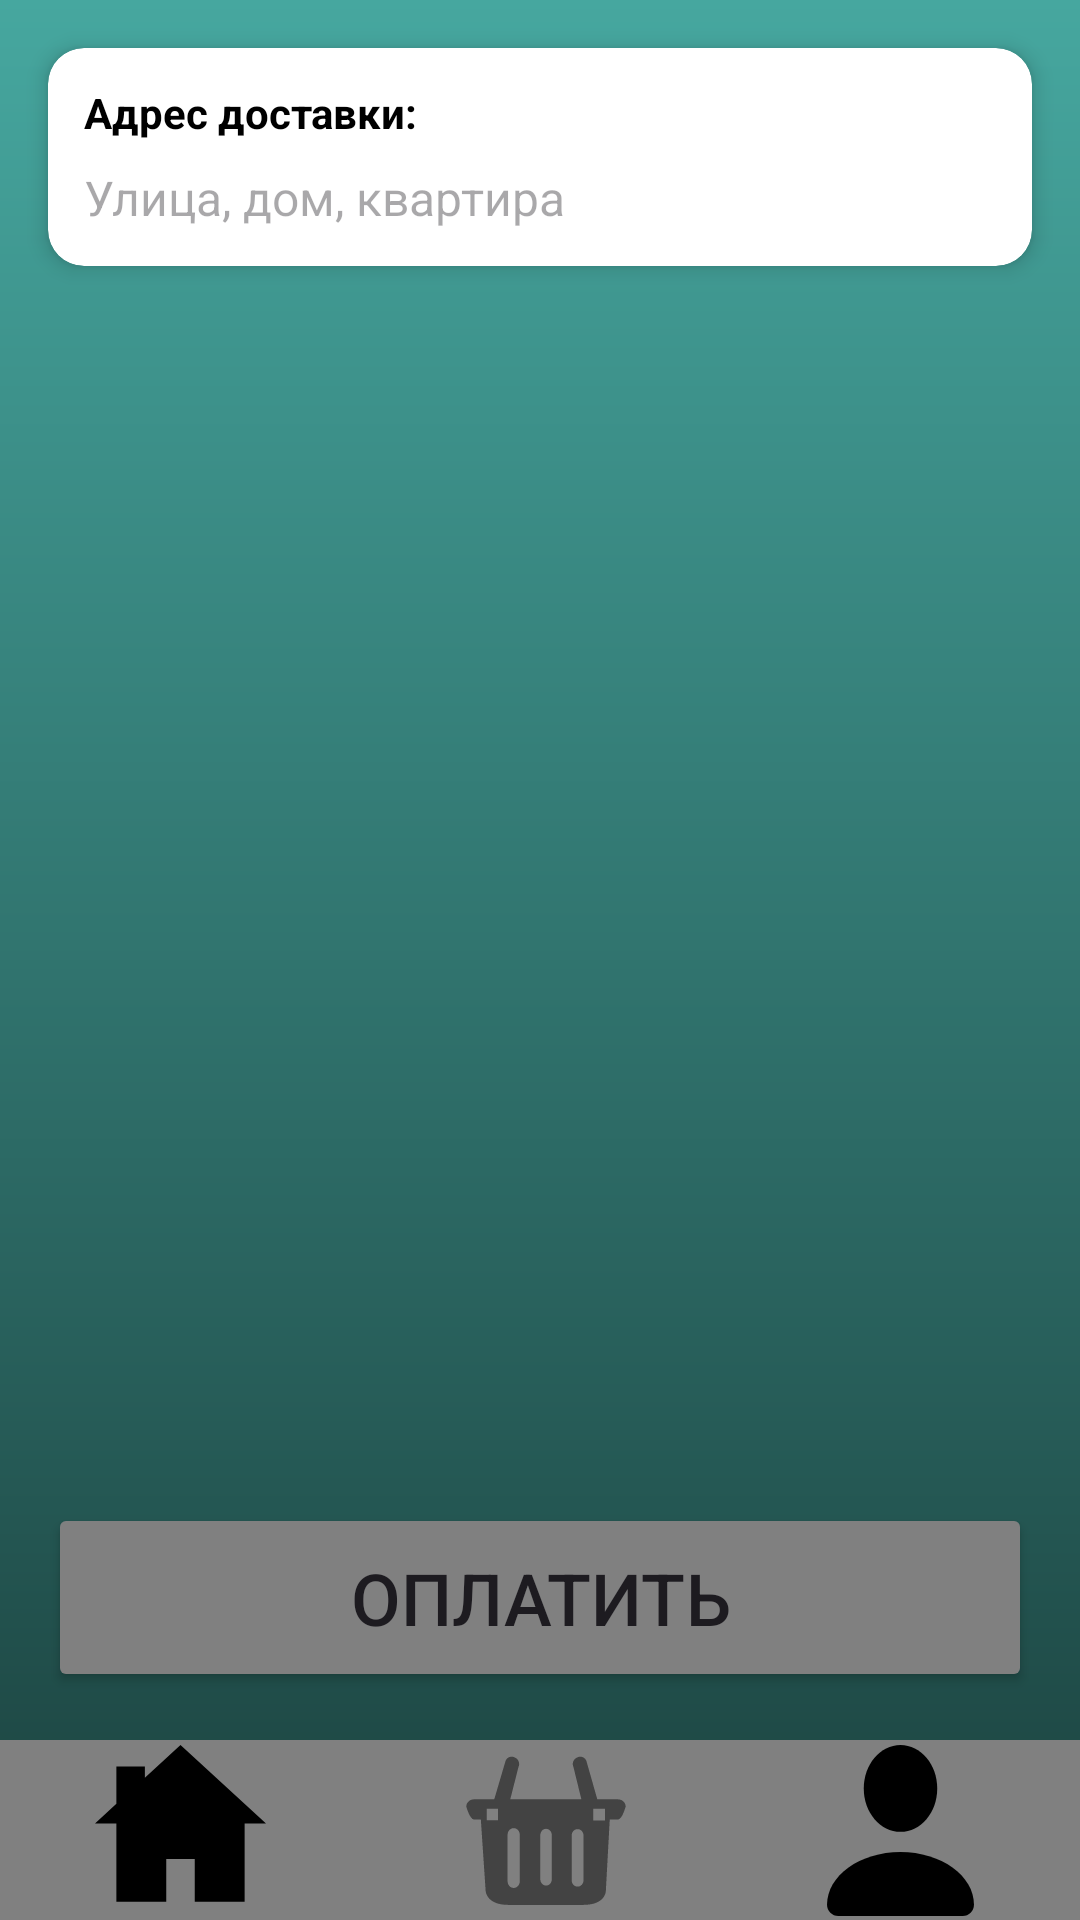

Screen size 1080×1920. Icon name, then its center in pixels as [x,y]:
basket: [546,1831]
home: [180,1823]
